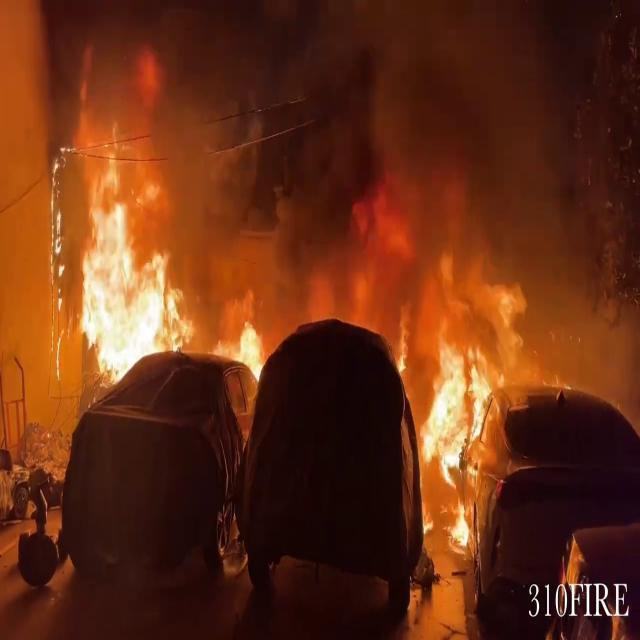Fire: (67, 95, 191, 389), (418, 331, 502, 546), (232, 307, 272, 410)
Smoke: (177, 0, 640, 385)
